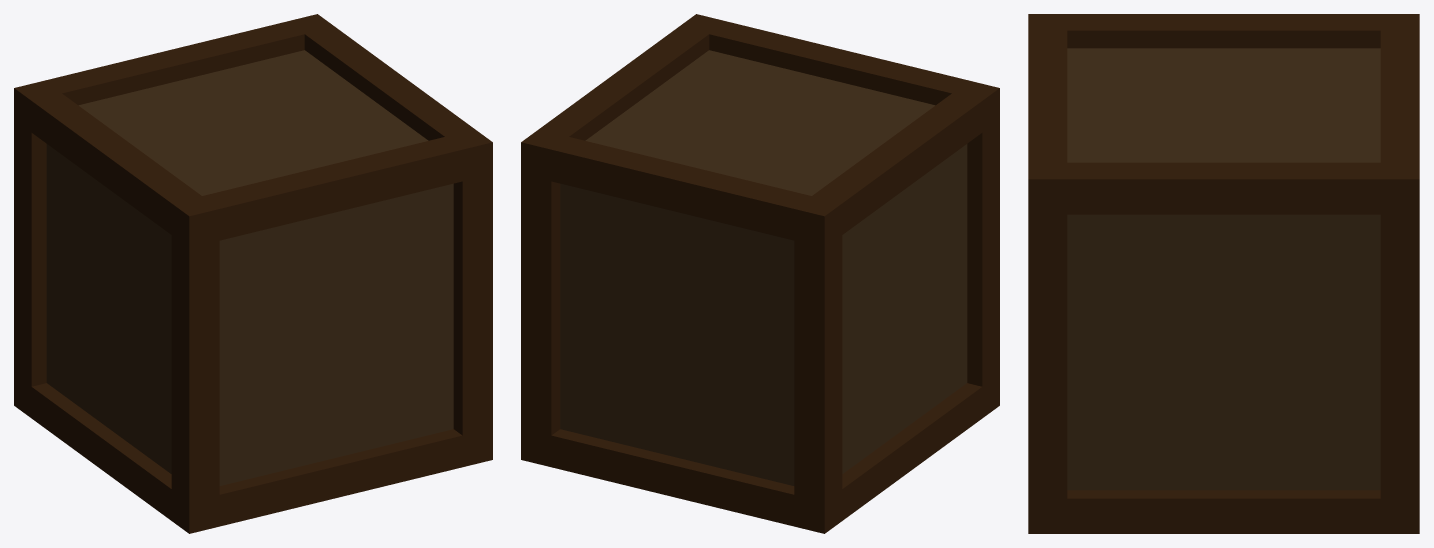
File: normalbox.fbx
3 renders of one model, left to right at view 1: azimuth 30°, elevation 25°; view 2: azimuth 150°, elevation 25°; view 3: azimuth 270°, elevation 25°, orthographic. The views are drawn at different scales.
Parts seen in each view (by area): view 1: Cube; view 2: Cube; view 3: Cube.
Part boxes in pixels (x1=…): Cube: x1=14, y1=14, x2=492, y2=533; Cube: x1=521, y1=14, x2=999, y2=533; Cube: x1=1028, y1=14, x2=1419, y2=533.
Bounding box in the file's own units: 200 × 200 × 200.
